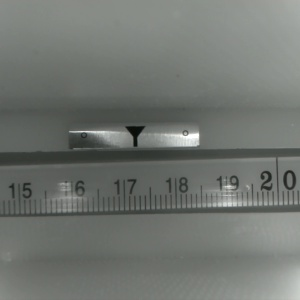0: (282, 170, 296, 191)
1: (7, 183, 15, 198), (113, 179, 120, 194), (215, 176, 222, 190), (165, 177, 171, 193)
2: (259, 171, 272, 190)
5: (22, 183, 32, 198)
6: (73, 180, 83, 195)
7: (127, 178, 137, 194)
8: (178, 177, 187, 192)
9: (229, 176, 239, 190)
finger: (123, 126, 145, 147)
